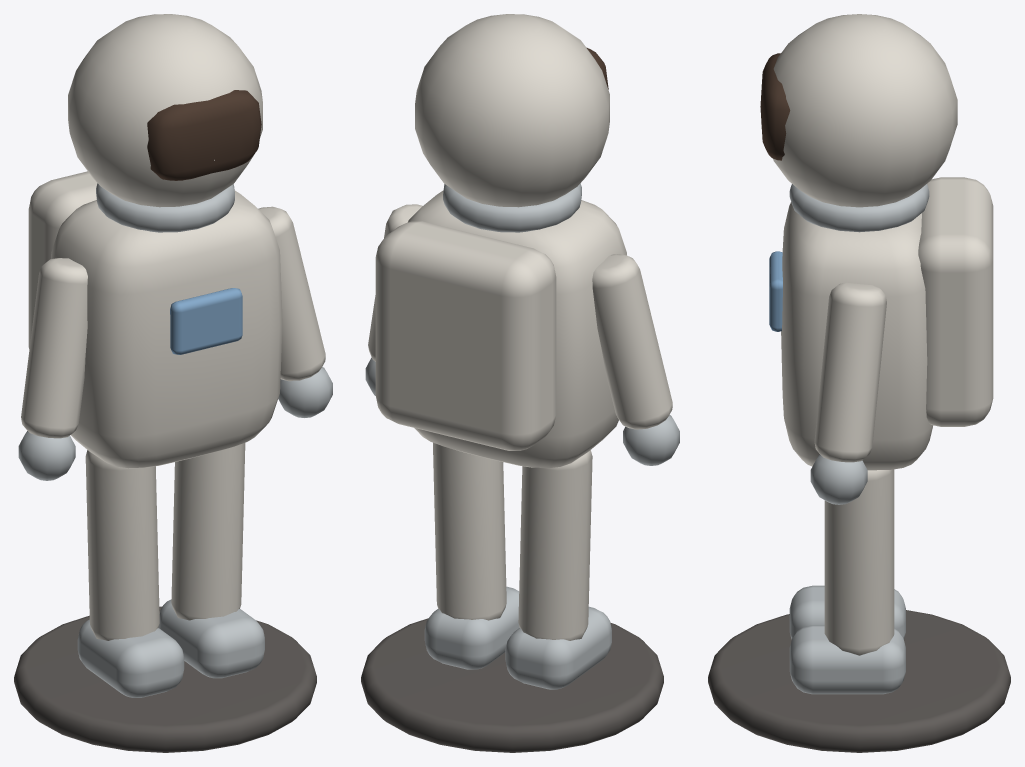
File: space_suit_display.glb
The picture shows the model from 3 angles, left to right: view 1: azimuth 30°, elevation 25°; view 2: azimuth 150°, elevation 25°; view 3: azimuth 270°, elevation 25°; orthographic projection.
Visible parts, largest first — view 1: space_suit_display_mesh; view 2: space_suit_display_mesh; view 3: space_suit_display_mesh.
Part boxes in pixels (x1,y1,x2,y2): space_suit_display_mesh: (14,14,332,752); space_suit_display_mesh: (361,14,679,752); space_suit_display_mesh: (708,14,1010,752).
Bounding box in the file's own units: 0.6075 × 1.27 × 0.52.
